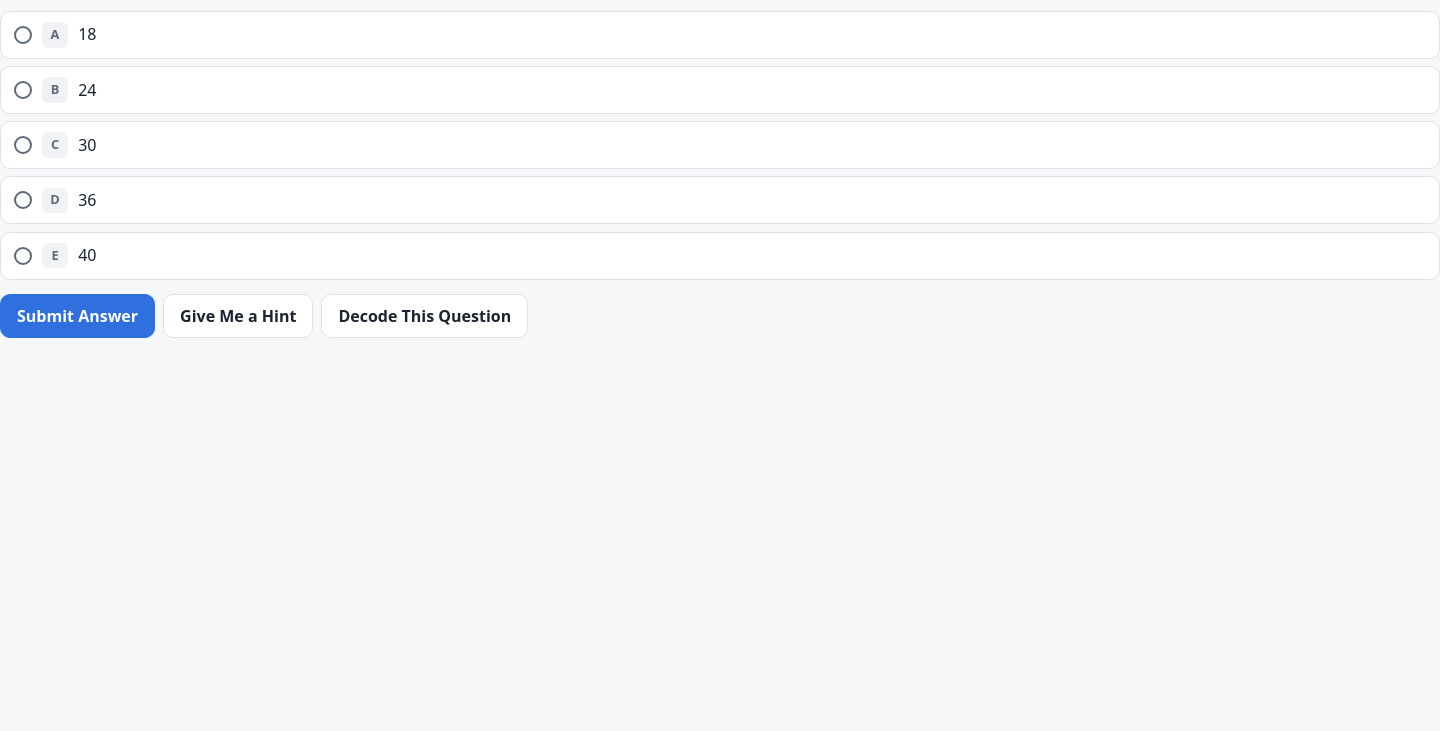
Scenario: QuestionSolver › hints and Decode This Question work
This screenshot has width=1440, height=731.
Click the button "Give Me a Hint".
click(238, 316)  # box [163, 294, 313, 338]
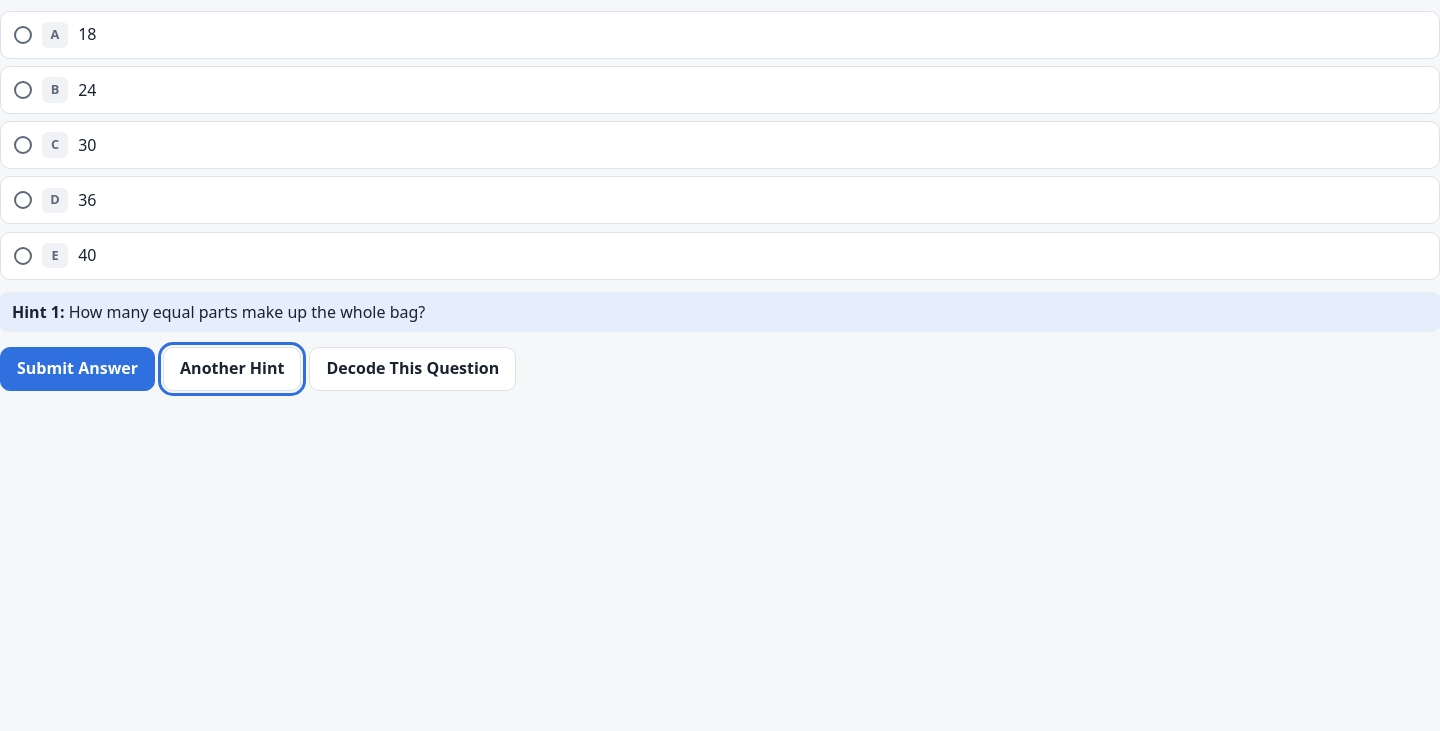
Check: the text "Hint 1:" is shown, box [12, 300, 64, 322]
Click the button "Decode This Question".
click(413, 369)  # box [310, 347, 516, 391]
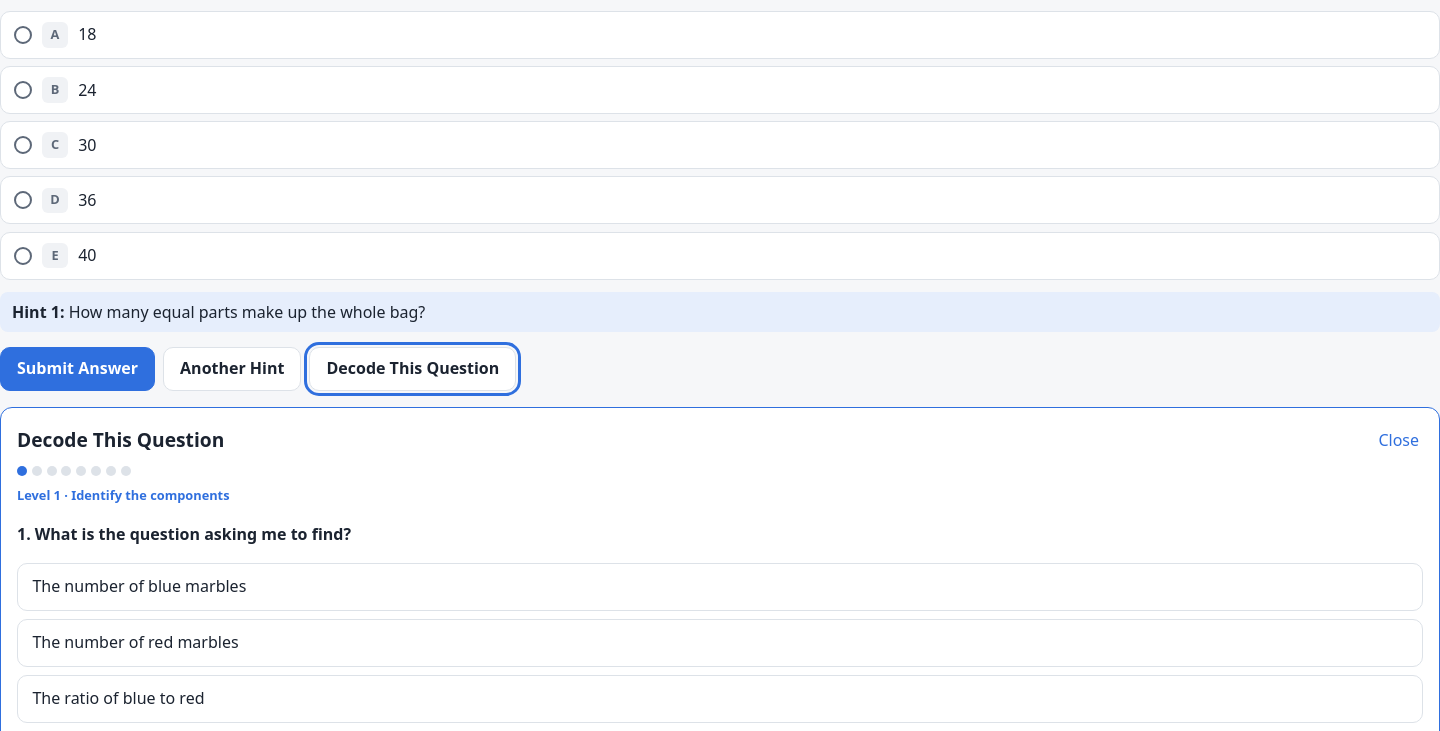
Check: the text "1. What is the question asking me to find?" is shown, box [17, 523, 351, 545]
Click the button "The number of blue marbles".
click(139, 586)  # box [17, 563, 1423, 611]
(page scrolled)
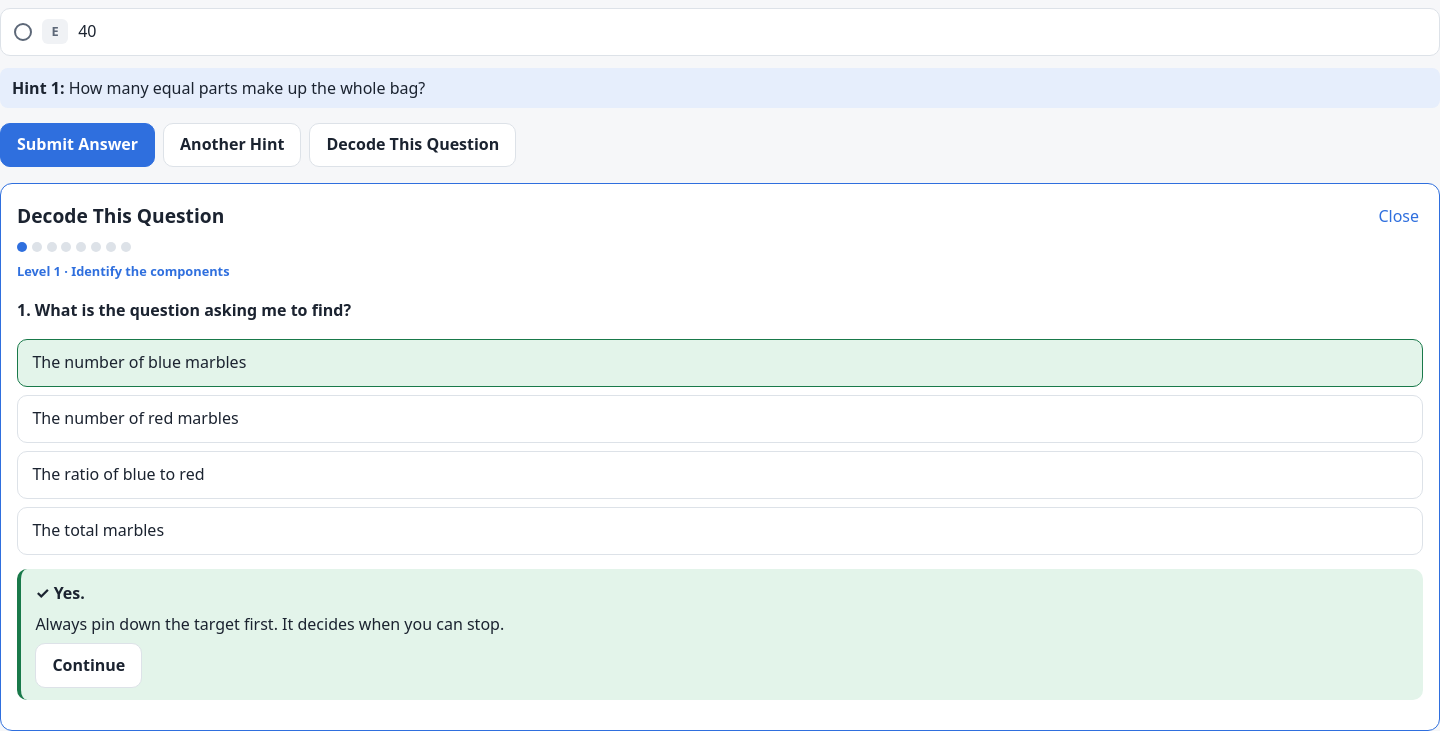
Check: the text "Yes." is shown, box [54, 582, 85, 604]
Click the button "Continue".
click(89, 666)  # box [35, 644, 142, 688]
(page scrolled)
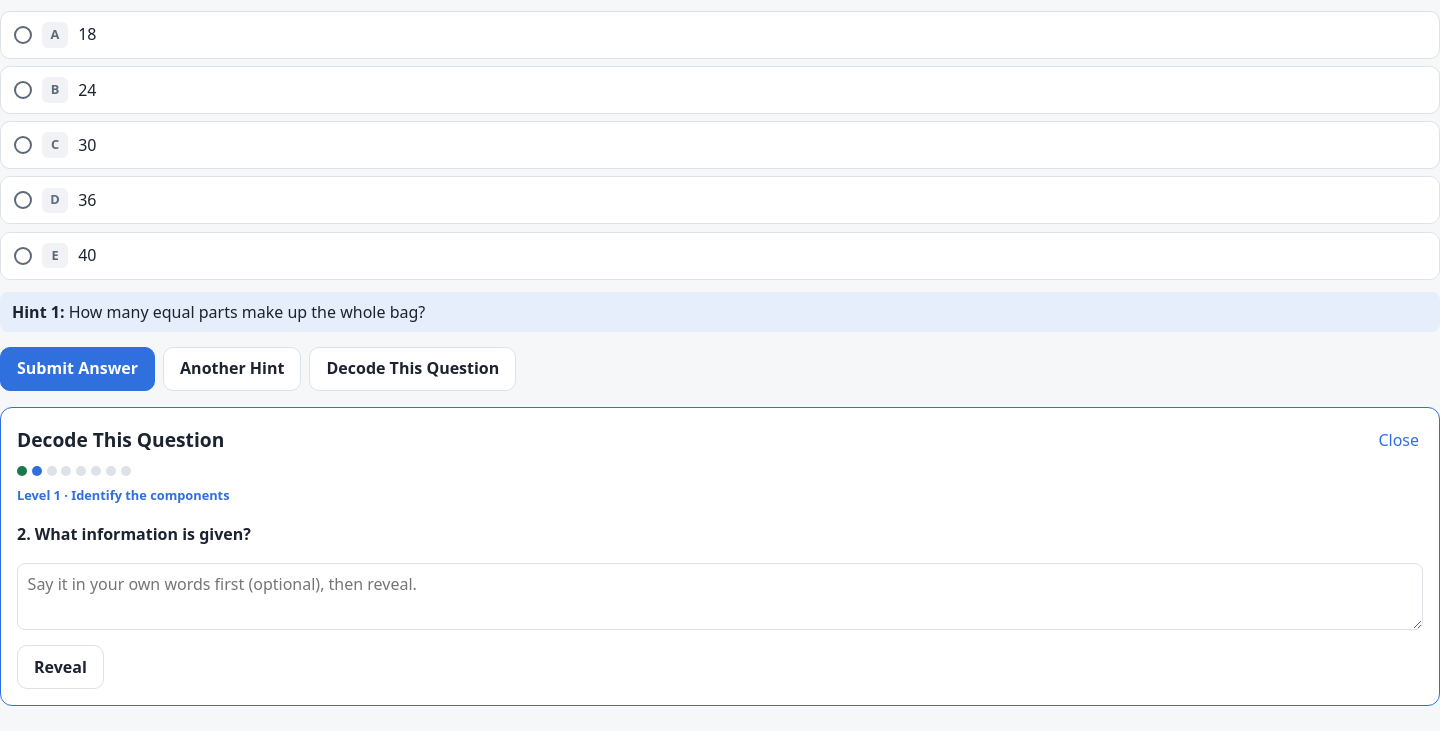
Check: the text "2. What information is given?" is shown, box [17, 523, 251, 545]
Click the button "Reveal".
click(60, 667)  # box [17, 645, 104, 690]
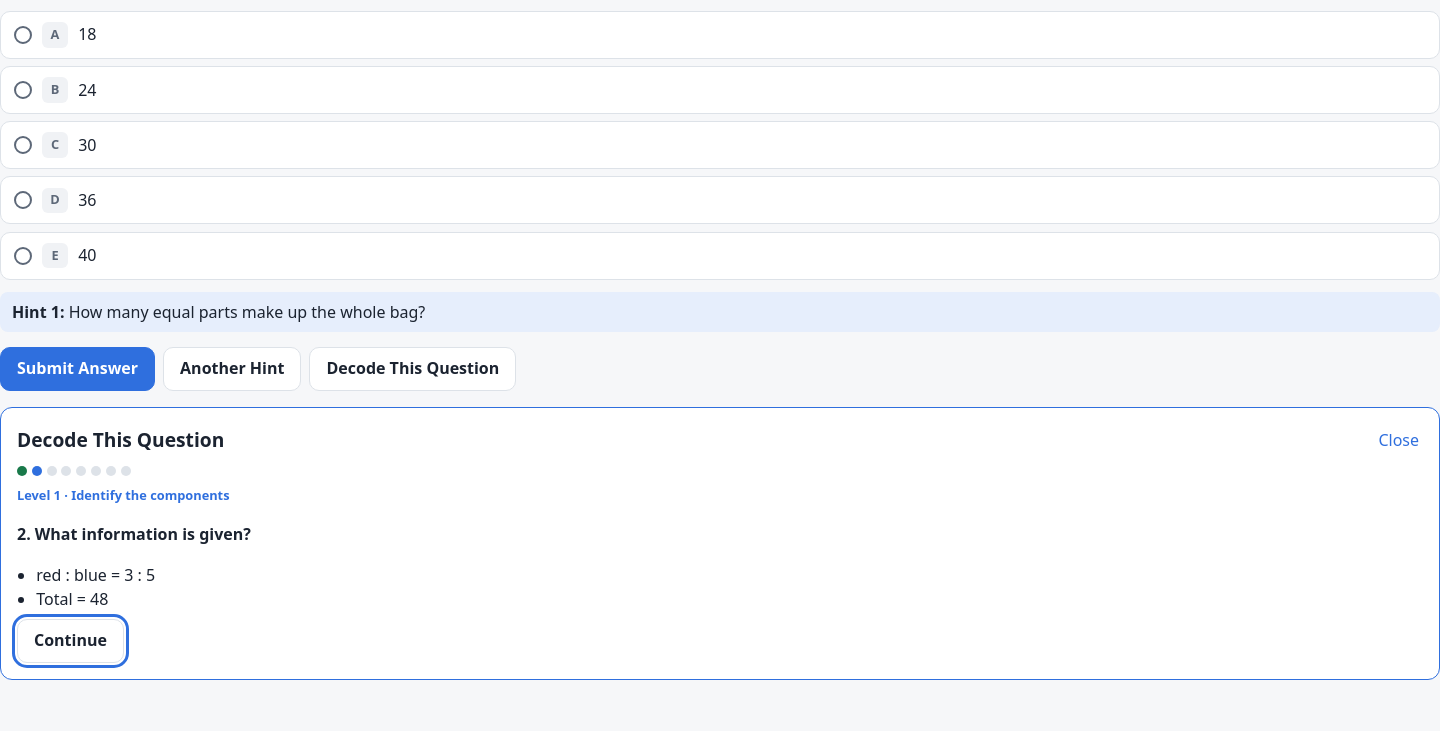
Check: the text "Total = 48" is shown, box [36, 588, 108, 610]
